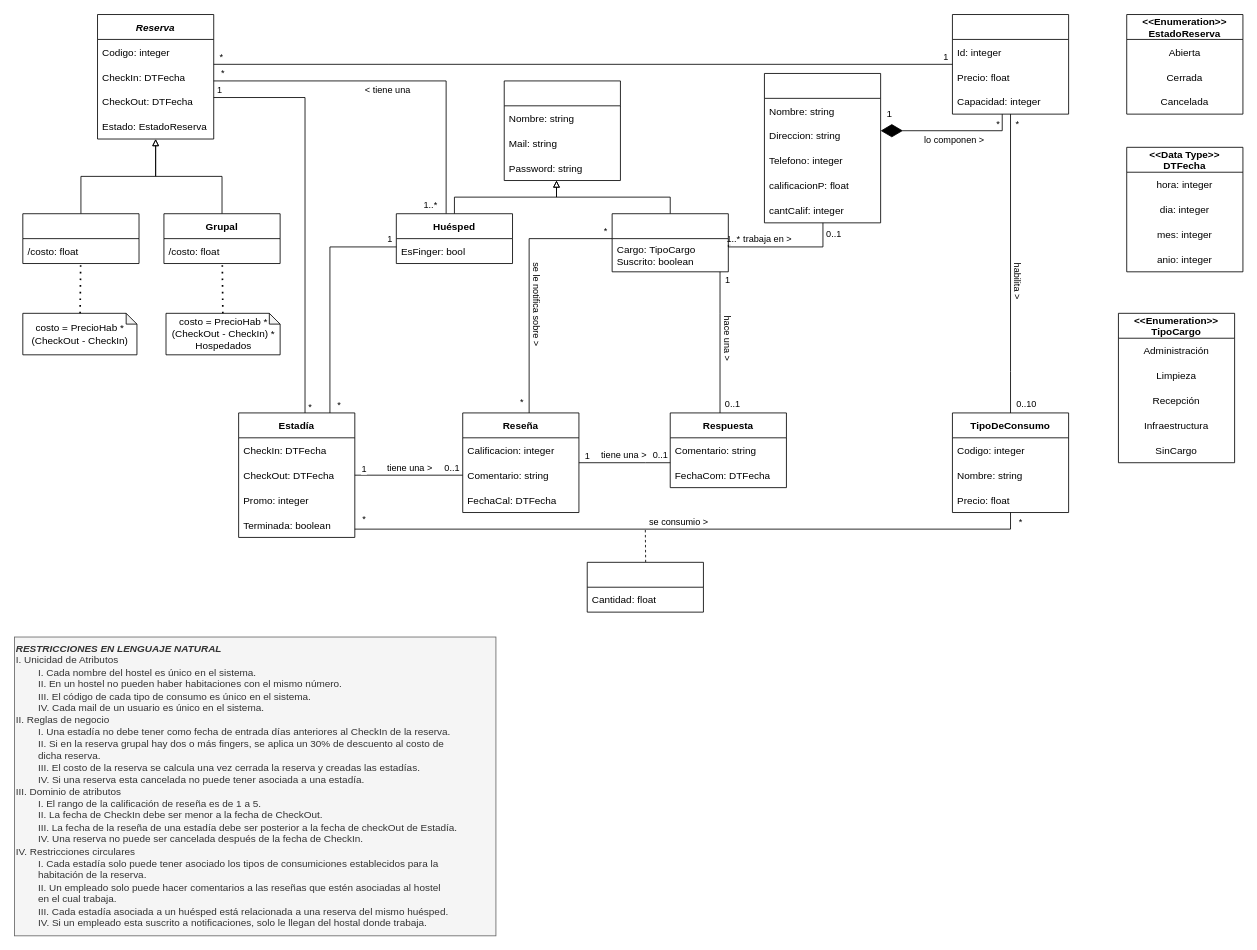
Some shapes in this 1257 by 950 pixel diagram are drawn without their labels. The shapes that lost their labels are listed below. From the top down, each one's box as (x1, y1, x2, y2) in pixels, then its label:
(952, 14, 1069, 114): Habitación
(503, 80, 620, 181): Usuario
(764, 73, 881, 223): Hostal
(22, 213, 139, 264): Individual
(611, 213, 728, 272): Empleado
(586, 561, 703, 612): Consumición
